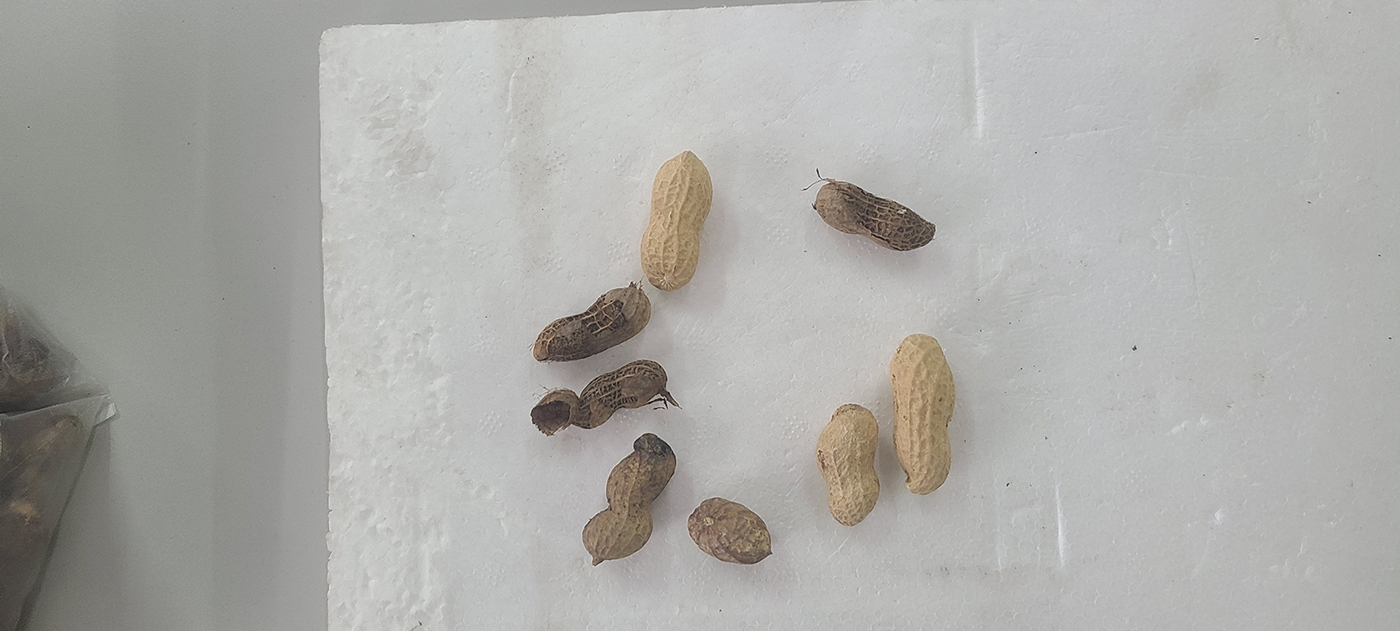h: (888, 333, 956, 495), (639, 150, 714, 292), (816, 406, 882, 524)
l: (579, 431, 676, 562), (530, 359, 668, 434), (533, 286, 654, 362), (815, 179, 936, 249), (689, 497, 774, 566)
